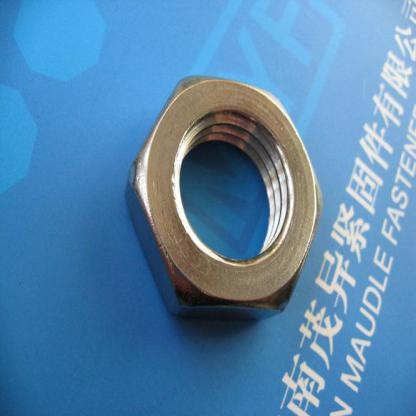FOD: (124, 74, 324, 332)
